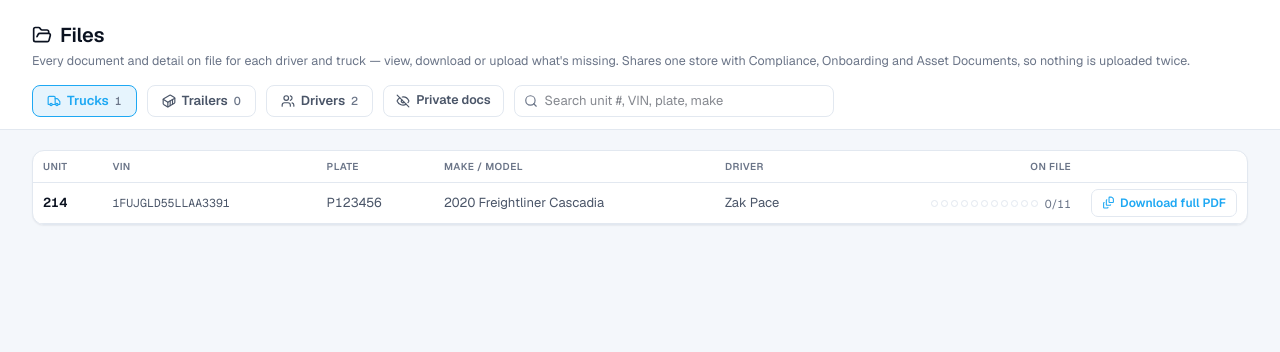
Files hub renders › shows each driver's email in the list
Click the button "Drivers 2" at (320, 101), box [266,85,373,117]
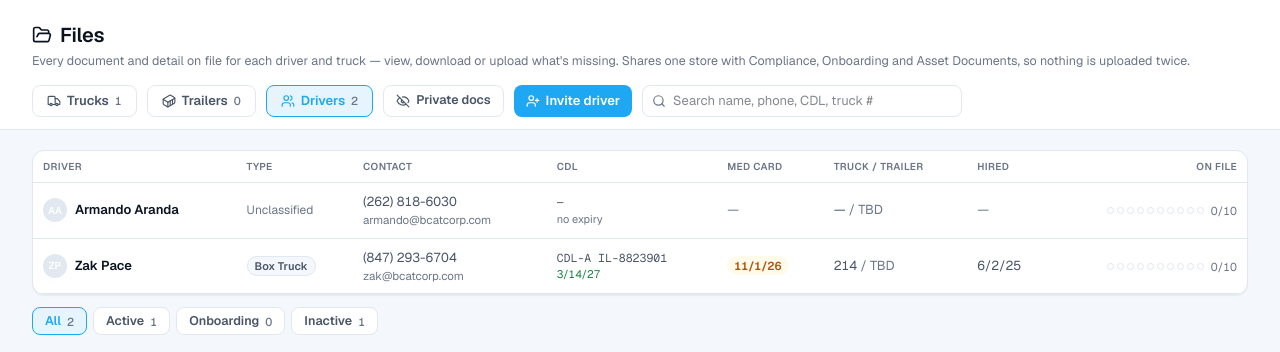
Check: the column heading "Contact" is shown, box [353,151,547,182]
Check: the text "zak@bcatcorp.com" is shown, box [363,268,464,283]
